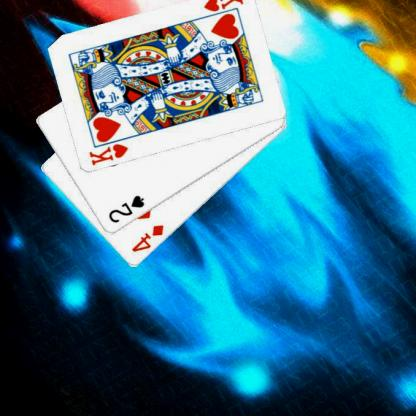2S: (106, 193, 146, 224)
4D: (129, 222, 165, 254)
KH: (86, 141, 129, 167), (200, 0, 244, 13)
